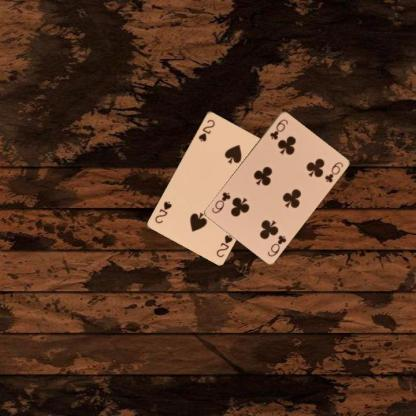2s: (196, 116, 216, 142), (214, 232, 234, 258)
6c: (264, 232, 288, 258), (267, 116, 289, 141)
